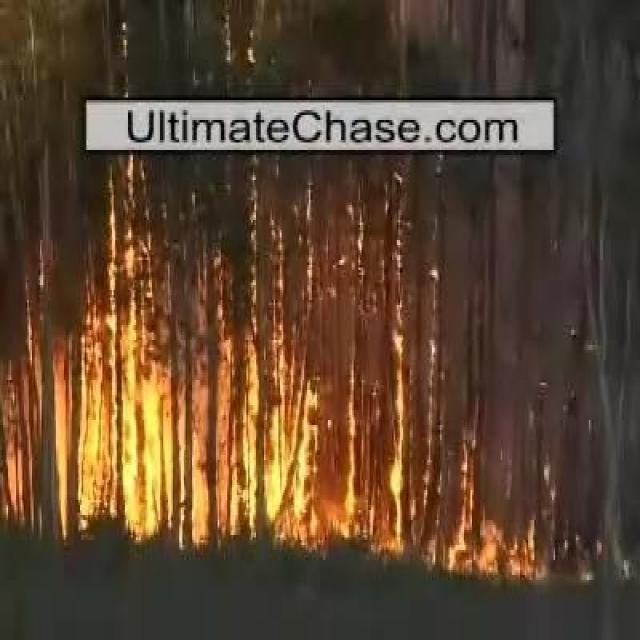Fire: (57, 305, 407, 540), (443, 513, 544, 585)
